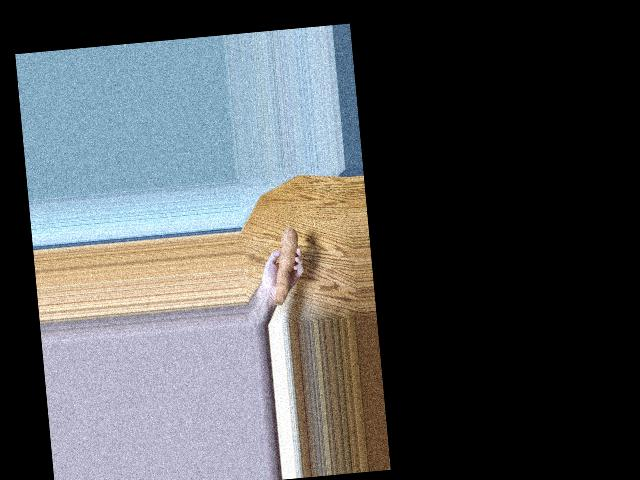sweet_potato: (269, 224, 304, 302)
